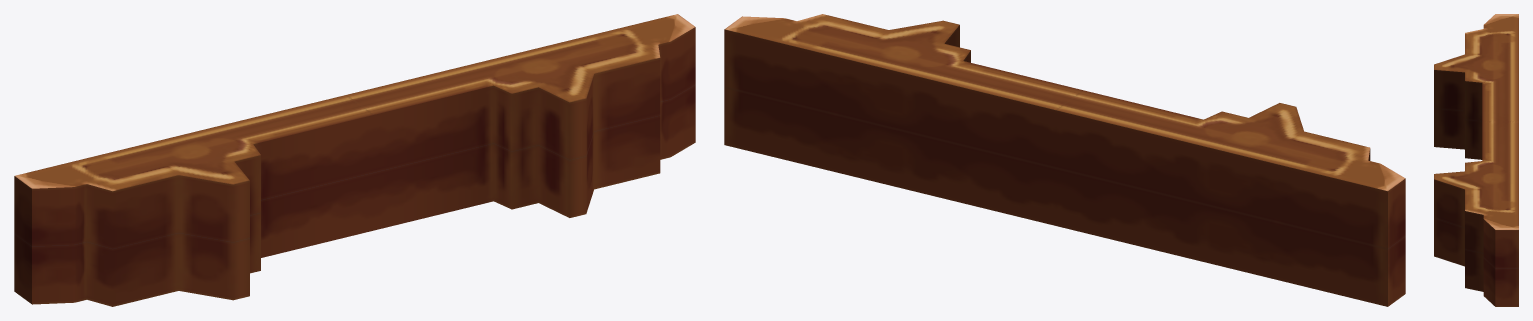
File: wallAlt_01.fbx
3 views of the same model, side by side, from view 1: azimuth 30°, elevation 25°; view 2: azimuth 150°, elevation 25°; view 3: azimuth 270°, elevation 25° (orthographic). The views are drawn at different scales.
Parts seen in each view (by area): view 1: wallAlt_01; view 2: wallAlt_01; view 3: wallAlt_01.
Part boxes in pixels (x1,y1,x2,y2): wallAlt_01: (14, 14, 695, 306); wallAlt_01: (724, 14, 1405, 306); wallAlt_01: (1434, 14, 1518, 306).
Bounding box in the file's own units: 6 × 1 × 0.9971.
1 material, 1 textured.
